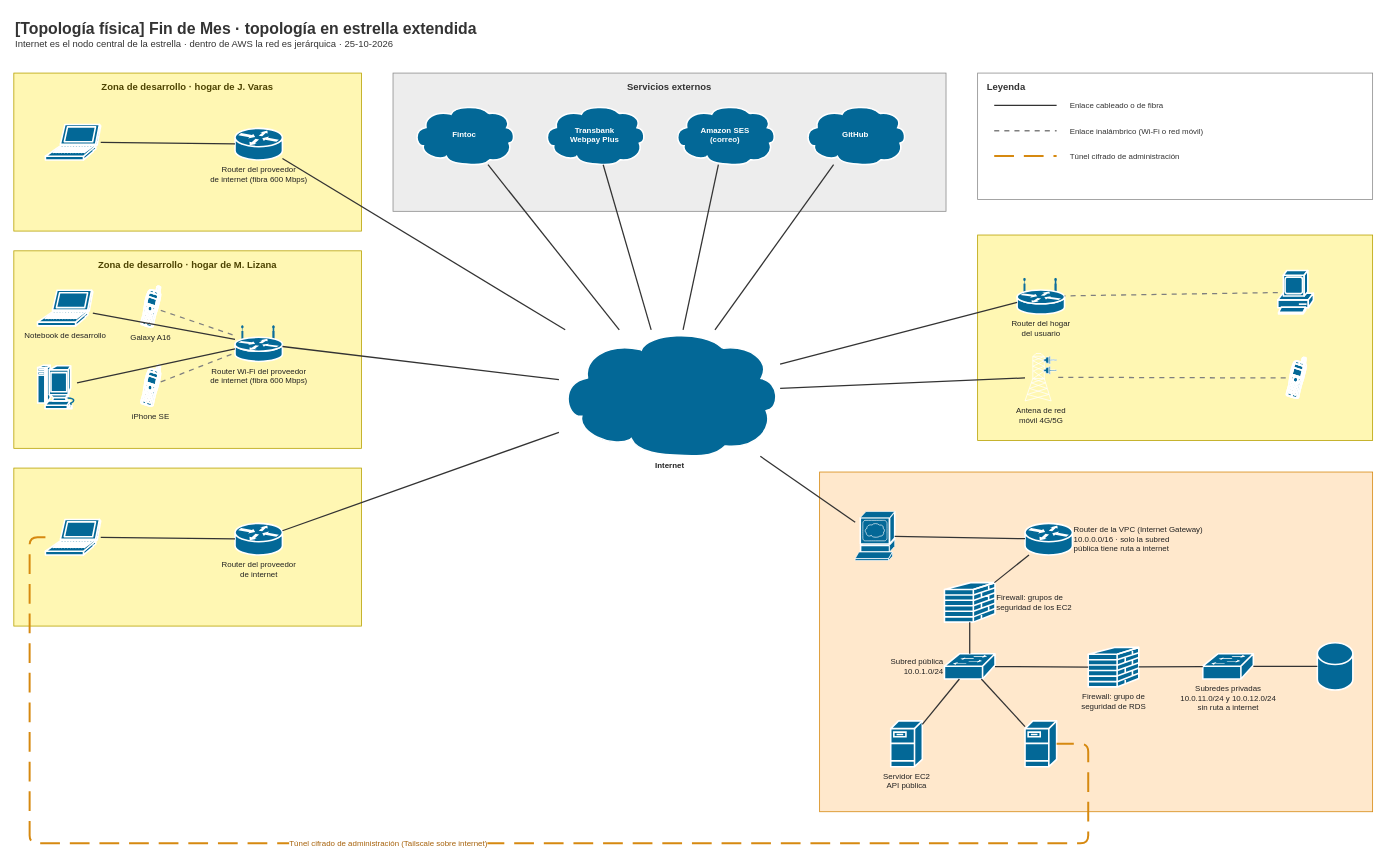
This 1386x861 diagram has some shape labels left out. The box of each missing label's shape, as (x1, y1, x2, y2) in pixels:
Base de datos RDS PostgreSQL 18: (1316, 641, 1353, 690)
Borde de AWS: CloudFront (AWS Shield Standard) y API Gateway (única entrada): (854, 510, 895, 561)
Equipo autorizado (Tailscale, etiqueta admin): (44, 518, 101, 555)
Mac mini M4 (compilación iOS): (36, 364, 77, 409)
Notebook de desarrollo (Windows 11): (44, 123, 101, 160)
Nube de AWS · región us-east-1: (819, 471, 1373, 812)
PC o notebook con navegador: (1277, 269, 1314, 314)
Servidor EC2 administración: (1024, 720, 1057, 767)
Teléfono con la app (Android o iOS): (1285, 356, 1307, 399)
Zona de mantenimiento · equipo del operador: (13, 467, 361, 626)
Zona de uso · usuarios de Fin de Mes: (977, 234, 1373, 440)
